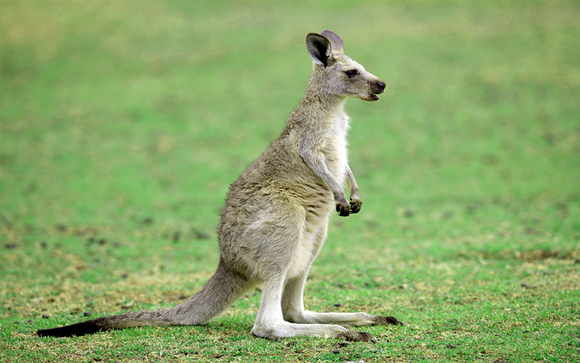kangaroo: (34, 25, 405, 346)
